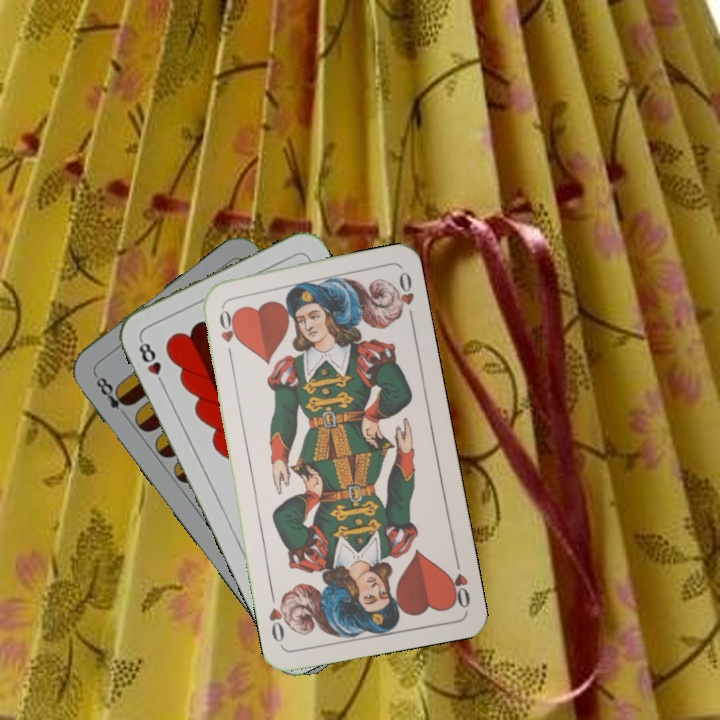E8: (90, 370, 133, 421)
H8: (134, 335, 168, 390)
HO: (444, 553, 473, 611), (215, 302, 237, 361)
